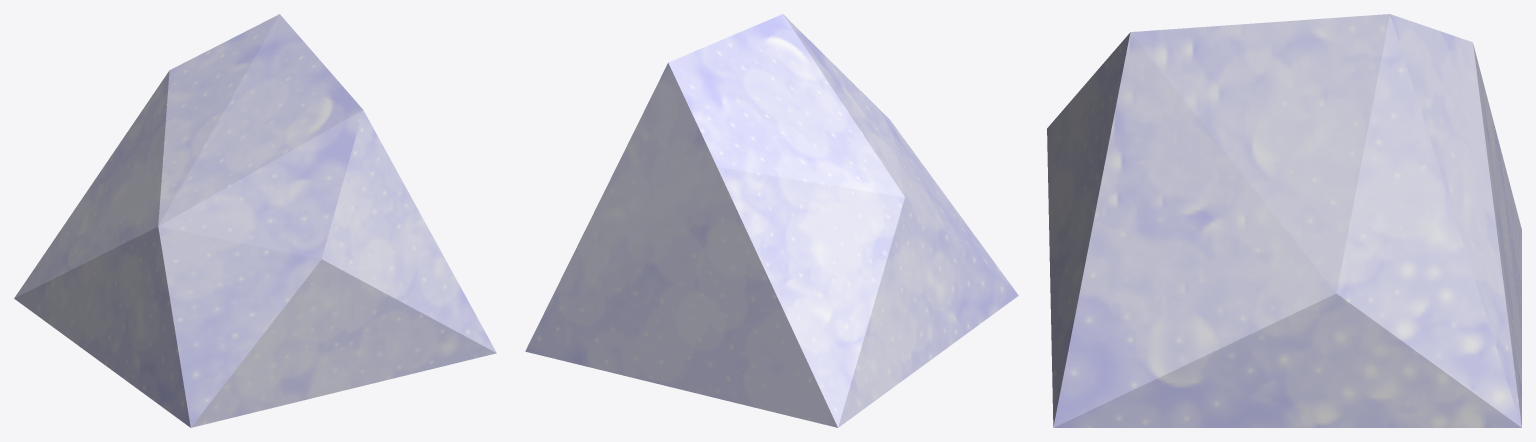
Rendered from Rock_model_test_0.fbx.
3 renders of one model, left to right at view 1: azimuth 30°, elevation 25°; view 2: azimuth 150°, elevation 25°; view 3: azimuth 270°, elevation 25°, orthographic. The views are drawn at different scales.
Visible parts, largest first — view 1: Rock; view 2: Rock; view 3: Rock.
Part boxes in pixels (x1,y1,x2,y2): Rock: (14, 14, 496, 427); Rock: (525, 14, 1018, 427); Rock: (1047, 14, 1521, 427).
Size of the model in its own units: 203 by 200 by 167.
Materials: 1 (1 with a texture image).
